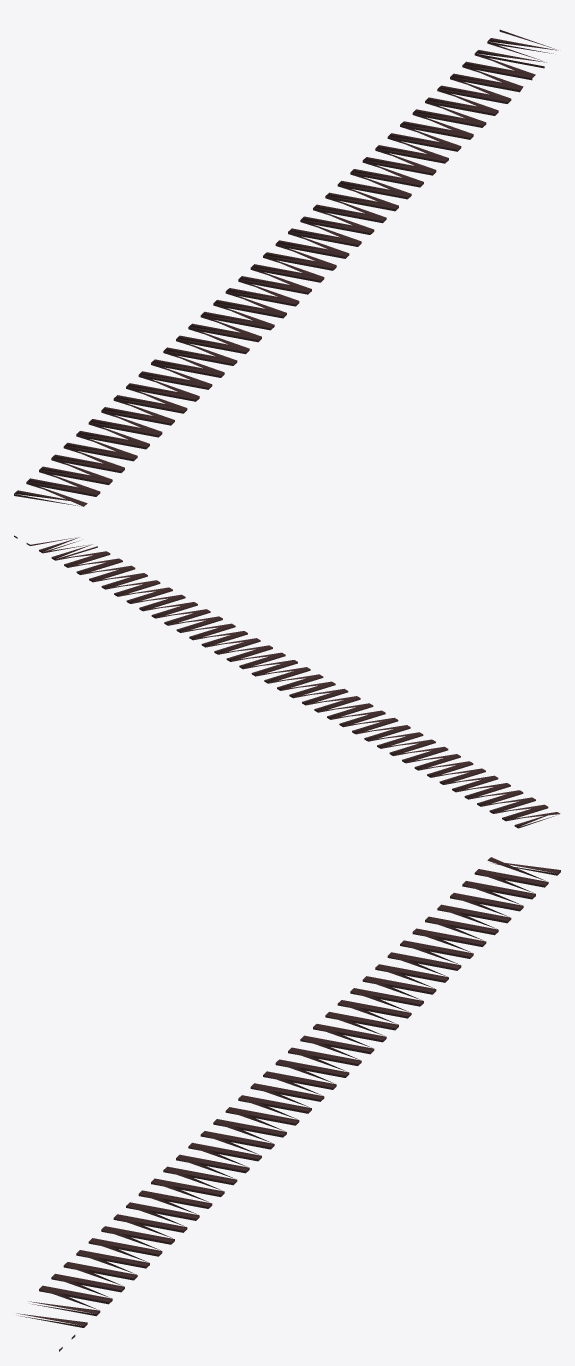
The picture shows the model from 3 angles, top to bottom: view 1: azimuth 90°, elevation 25°; view 2: azimuth 150°, elevation 25°; view 3: azimuth 270°, elevation 25°; orthographic projection. The views are drawn at different scales.
Size of the model in its own units: 32.54 by 0.064 by 15.26.
